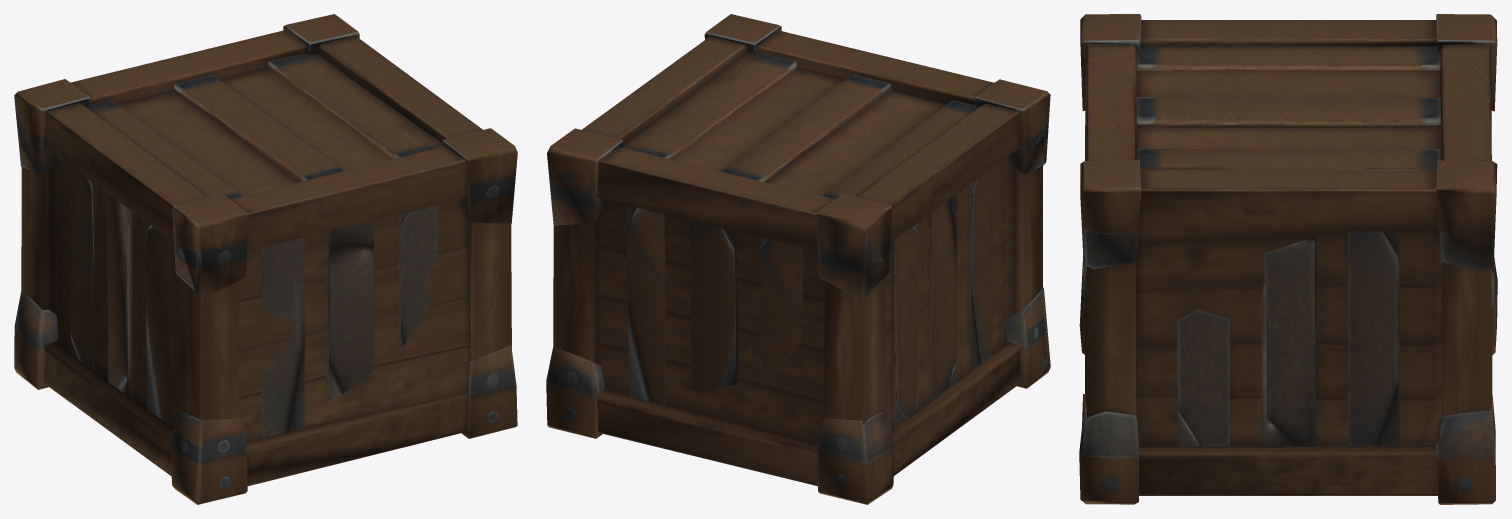
The model's file is crate.glb.
The picture shows the model from 3 angles, left to right: view 1: azimuth 30°, elevation 25°; view 2: azimuth 150°, elevation 25°; view 3: azimuth 270°, elevation 25°; orthographic projection. The views are drawn at different scales.
Size of the model in its own units: 0.9565 by 0.7646 by 0.9155.
1 material, 1 textured.
